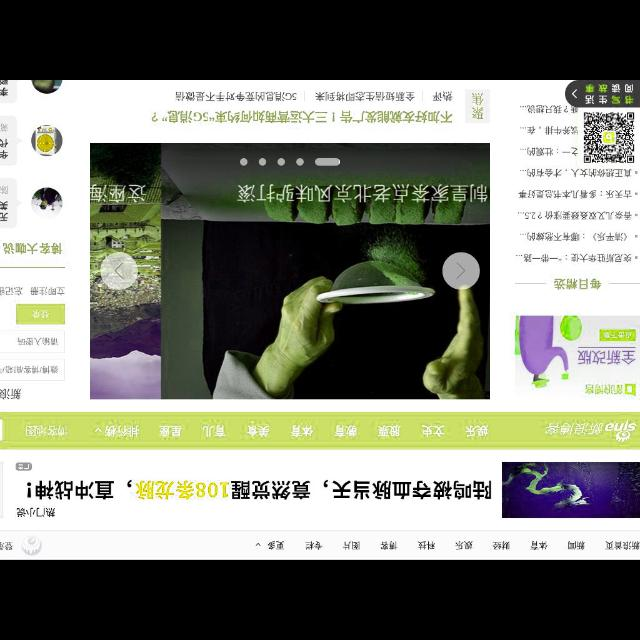button: (442, 252, 480, 290), (100, 252, 138, 290)
icon: (115, 262, 124, 280), (456, 263, 464, 279), (604, 132, 614, 142), (572, 89, 576, 98), (95, 428, 102, 432), (256, 544, 260, 546)
image: (90, 143, 490, 399), (516, 316, 638, 400), (502, 462, 640, 518), (584, 113, 634, 163), (32, 125, 62, 156), (32, 188, 62, 218), (605, 421, 635, 442), (32, 80, 62, 94), (21, 536, 41, 556)
input: (1, 360, 65, 380), (0, 332, 64, 352)
multitab: (25, 422, 489, 438)
pageindicator: (240, 157, 340, 166)
spinner: (564, 80, 640, 108), (94, 424, 138, 436), (256, 538, 284, 550)
text: (26, 481, 492, 499), (152, 110, 452, 122), (516, 253, 632, 263), (516, 211, 632, 221), (518, 190, 632, 200), (519, 169, 633, 179), (518, 232, 628, 242), (585, 84, 633, 105), (316, 91, 414, 101), (176, 92, 296, 100), (545, 423, 603, 435), (2, 243, 62, 254), (520, 147, 578, 157), (520, 126, 578, 136), (519, 104, 577, 114), (554, 278, 600, 290), (26, 426, 68, 436), (16, 507, 56, 517), (604, 540, 640, 550), (104, 426, 138, 436), (30, 286, 64, 296), (471, 93, 484, 119), (290, 424, 314, 436), (202, 425, 225, 437), (466, 425, 488, 437), (422, 425, 444, 437), (334, 424, 356, 436), (246, 425, 268, 437), (158, 426, 182, 436), (1, 388, 22, 399), (376, 426, 399, 436), (432, 91, 452, 101), (304, 540, 322, 550), (417, 540, 435, 550), (1, 287, 23, 295), (456, 540, 472, 550), (342, 541, 360, 549), (380, 542, 398, 550), (530, 541, 548, 549), (492, 541, 510, 549), (268, 540, 282, 550), (568, 541, 584, 549), (15, 462, 30, 470), (0, 542, 12, 550), (0, 212, 8, 222), (0, 150, 8, 160), (0, 138, 8, 148), (0, 122, 8, 132), (0, 202, 8, 210), (0, 186, 8, 194), (0, 88, 8, 96), (1, 80, 8, 86)
textbutton: (15, 304, 64, 324)
